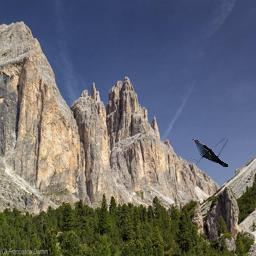Cuckoo: (191, 138, 228, 167)
